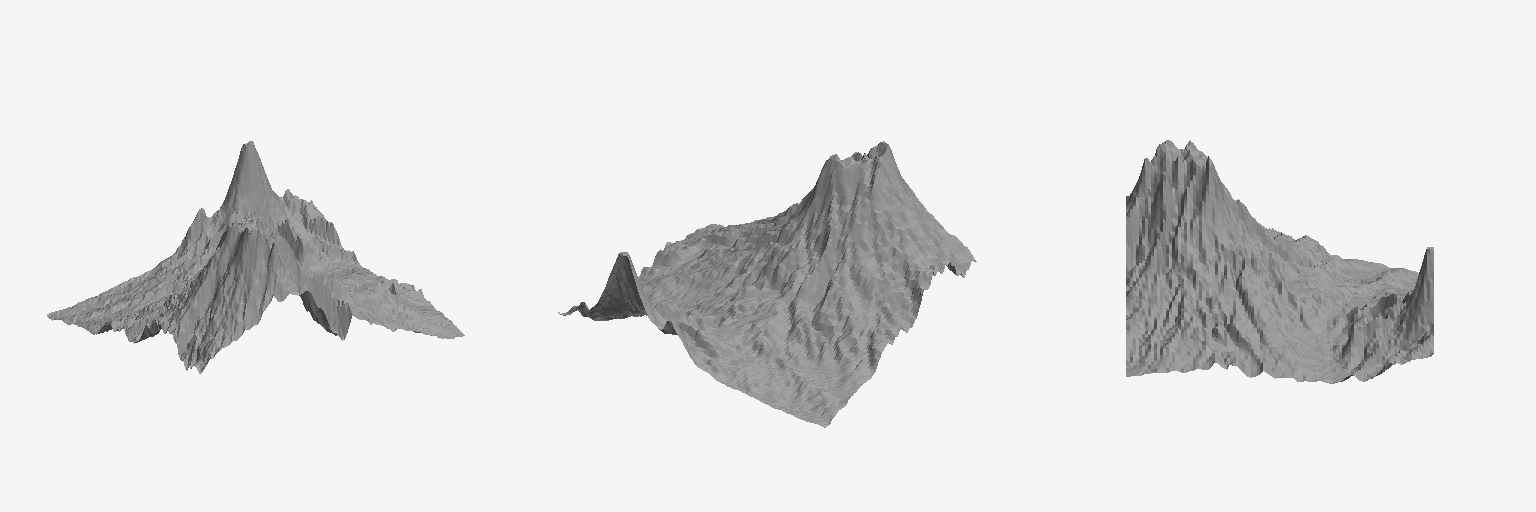
The picture shows the model from 3 angles: view 1: azimuth 30°, elevation 25°; view 2: azimuth 150°, elevation 25°; view 3: azimuth 270°, elevation 25°; orthographic projection.
Parts seen in each view (by area): view 1: mt-ruapehu-and-ngauruhoe; view 2: mt-ruapehu-and-ngauruhoe; view 3: mt-ruapehu-and-ngauruhoe.
Boxes of the visible parts, box(x1,y1,x2,y2) form: mt-ruapehu-and-ngauruhoe: box(47, 141, 464, 373); mt-ruapehu-and-ngauruhoe: box(558, 141, 976, 427); mt-ruapehu-and-ngauruhoe: box(1126, 140, 1433, 383).
Size of the model in its own units: 1 by 0.6074 by 1.